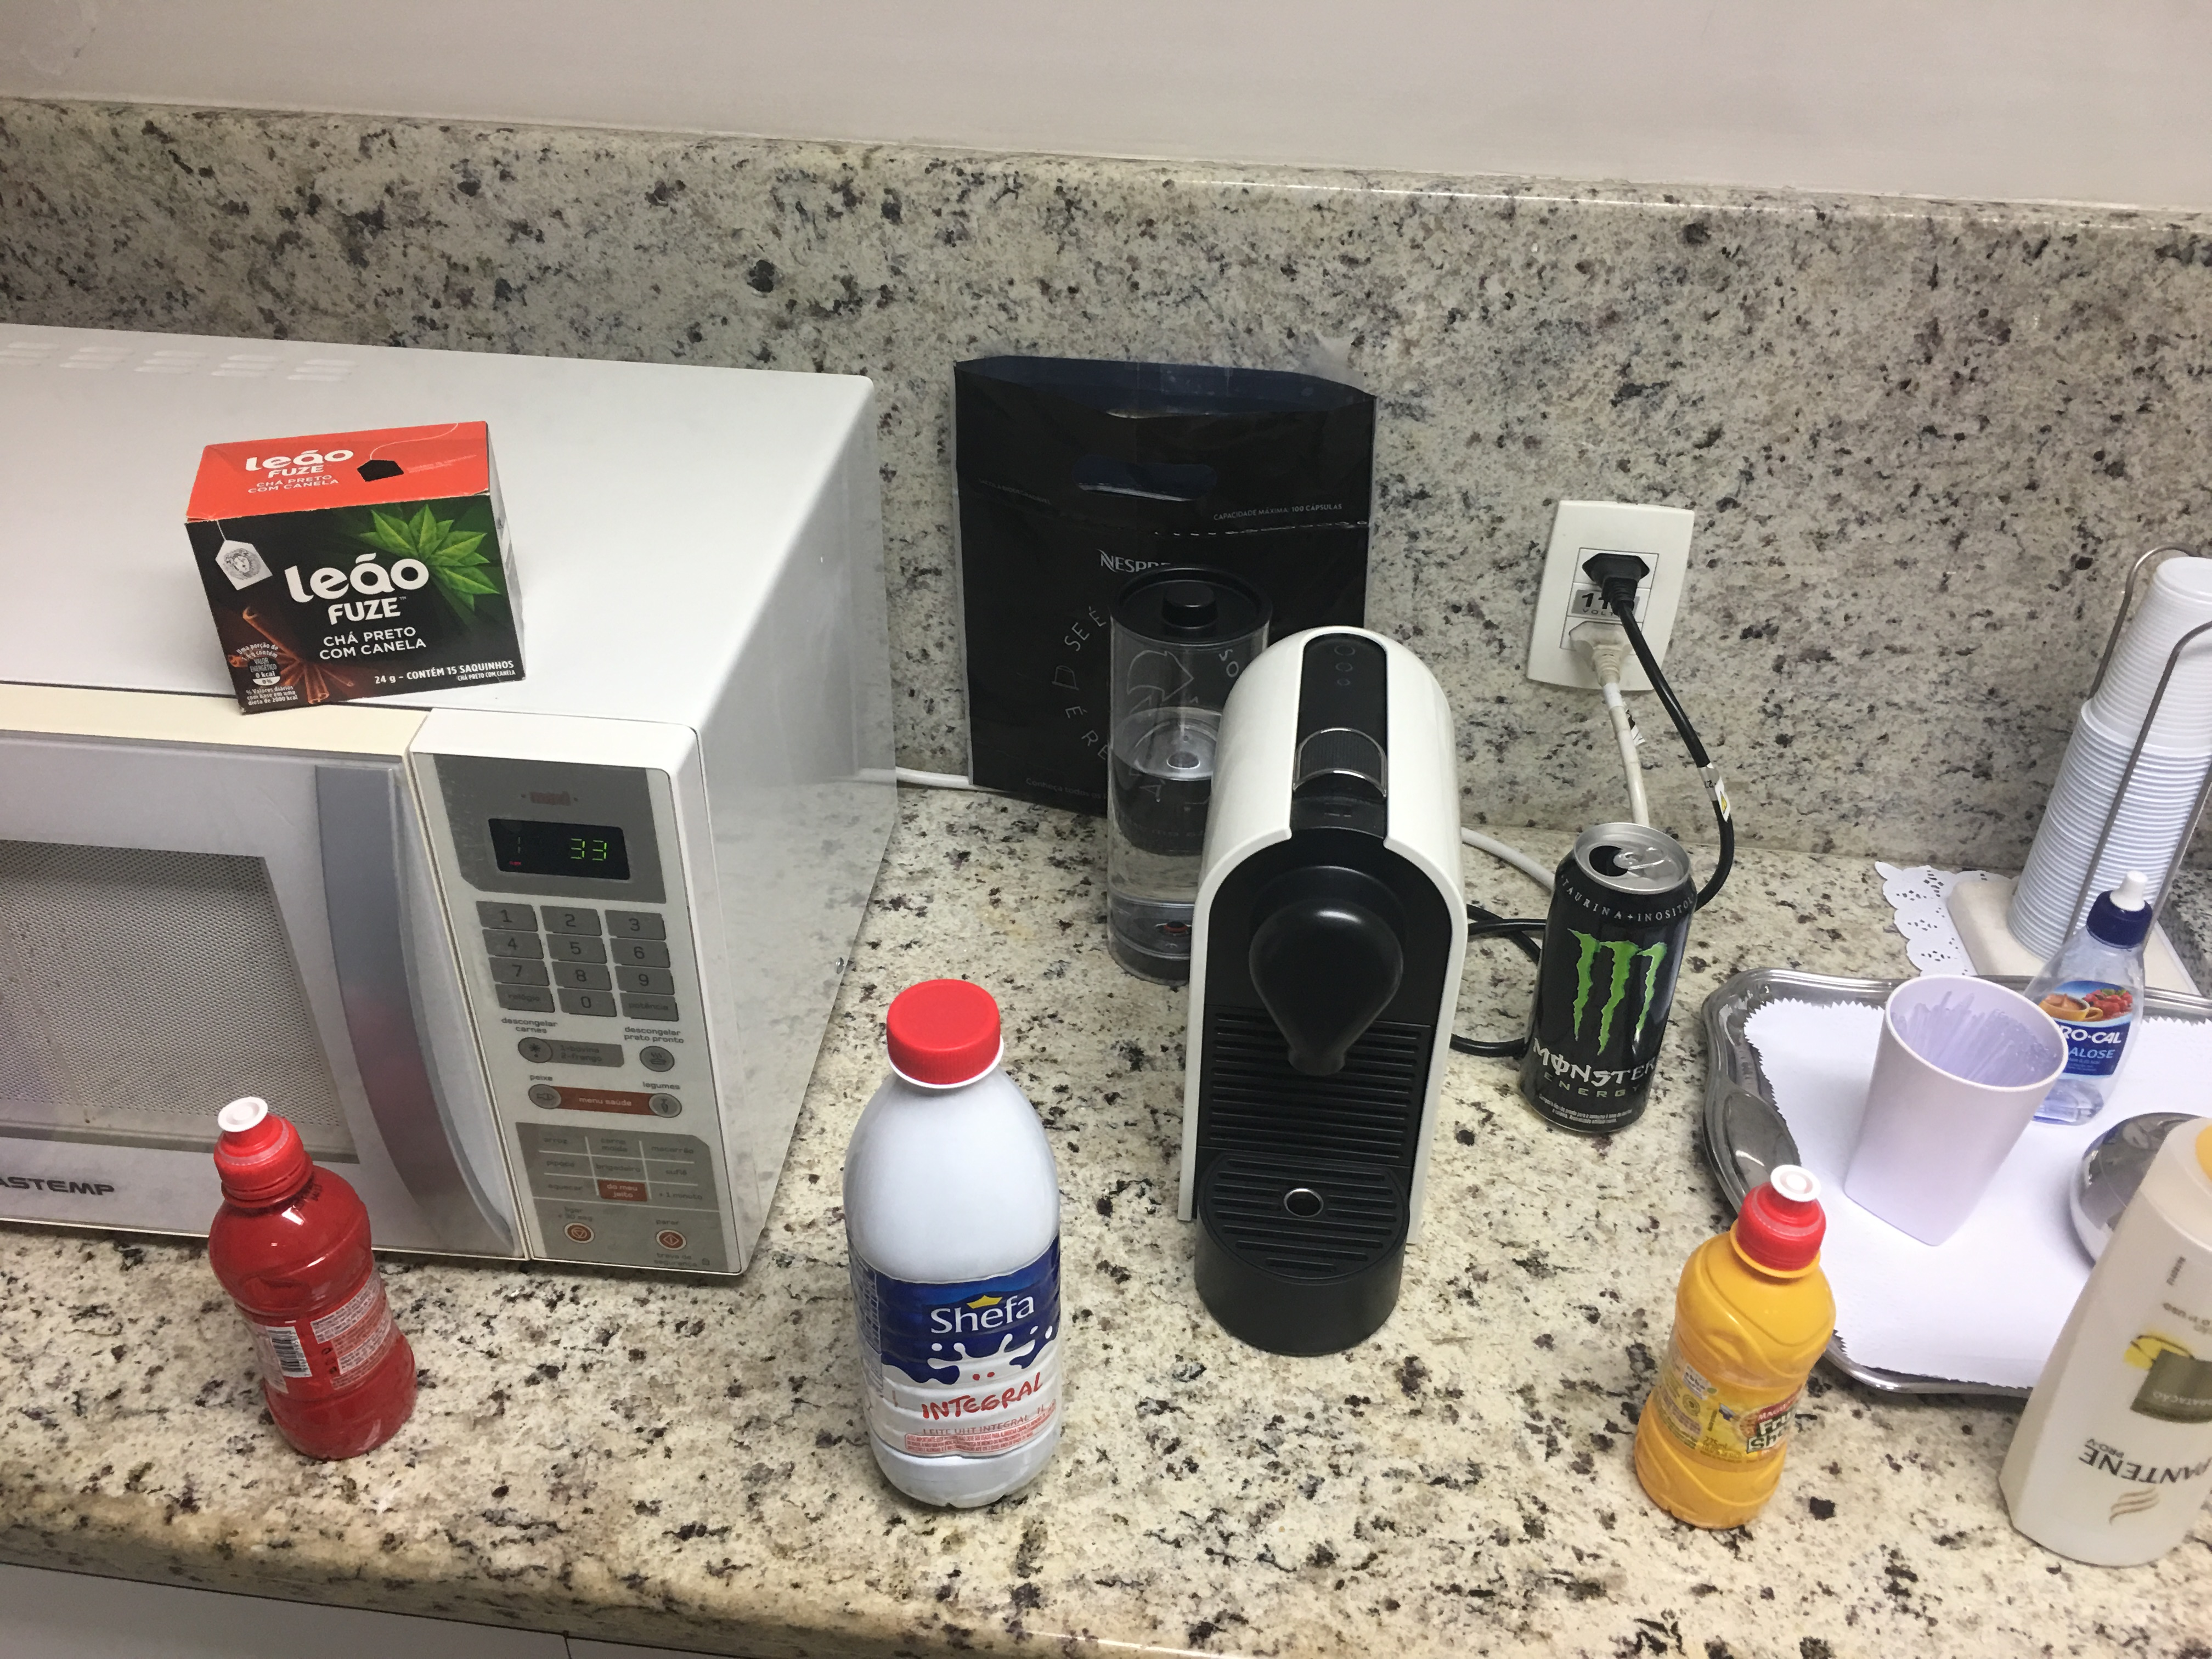milk_bottle: (838, 979, 1076, 1514)
monster: (1514, 817, 1700, 1147)
red_juice: (199, 1091, 423, 1462)
tea_box: (179, 413, 531, 720)
yellow_juice: (1632, 1166, 1838, 1537)
